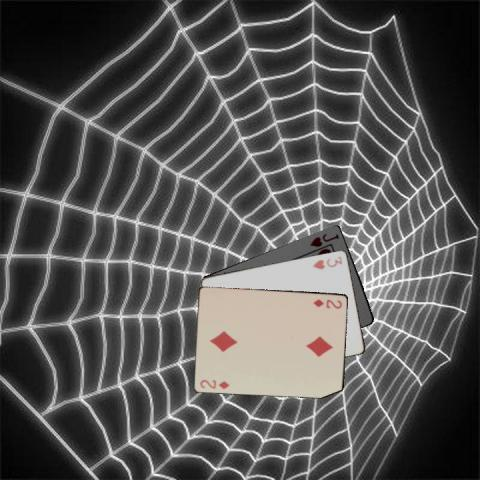2d: (197, 377, 231, 390), (312, 296, 344, 309)
3h: (310, 253, 343, 271)
Jh: (307, 230, 341, 249)
